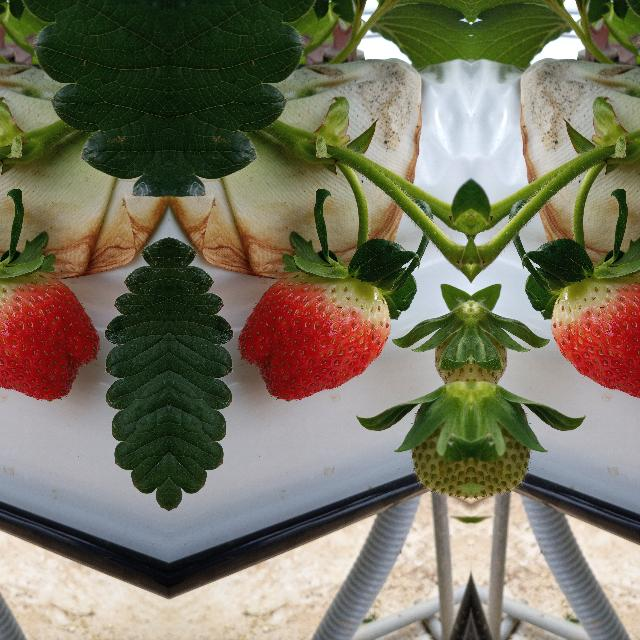Health_100: (236, 270, 390, 402), (0, 270, 100, 401), (550, 270, 640, 401)
Health_25: (470, 382, 536, 508), (406, 382, 470, 508)
